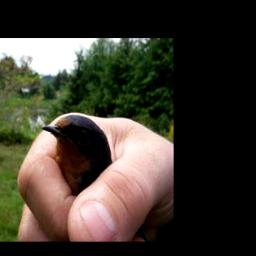Swallow: (40, 112, 114, 196)
